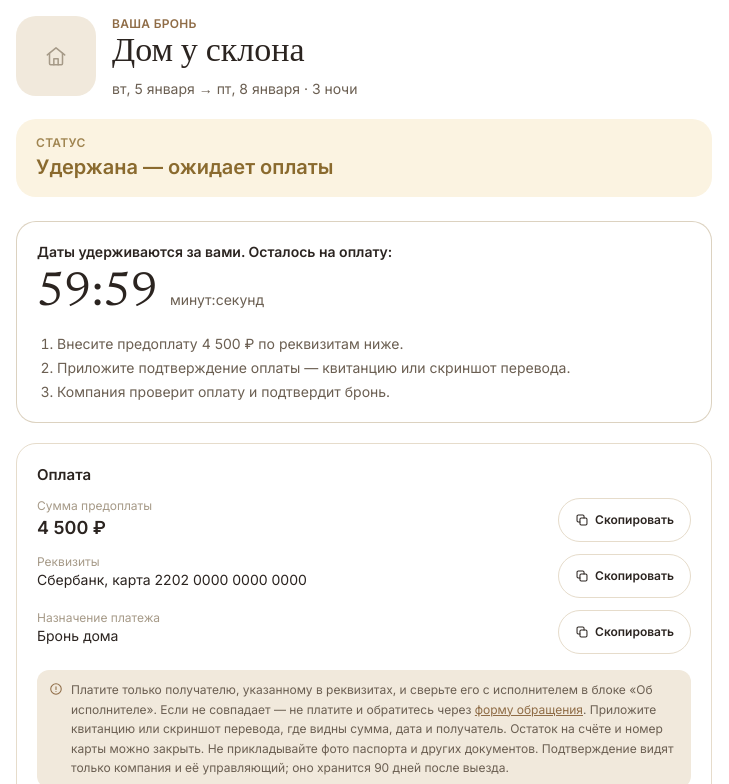
Test: BookingPage — held booking › copies the requisites
Click the button with aria-label "Скопировать: реквизиты" at {"x": 625, "y": 576}, box left=558, top=554, right=691, bottom=598
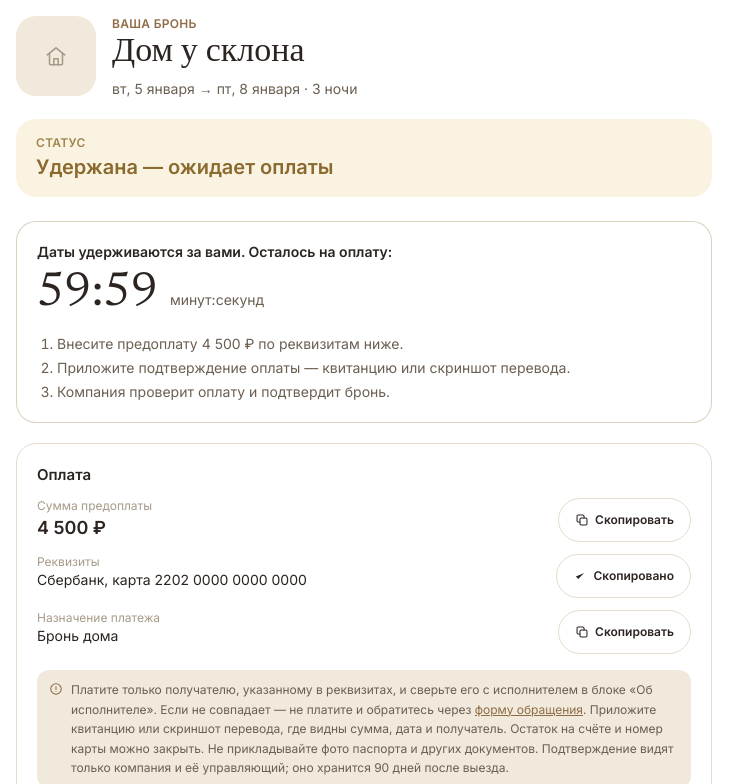
Result: the text "Скопировано" is shown at left=594, top=568, right=674, bottom=584
